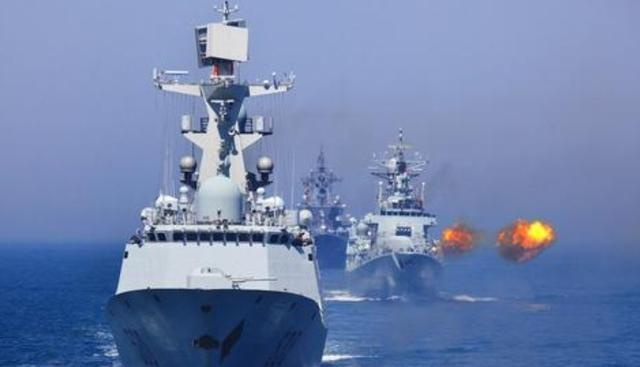warship: (121, 1, 342, 357), (338, 123, 448, 304), (296, 138, 360, 271)
